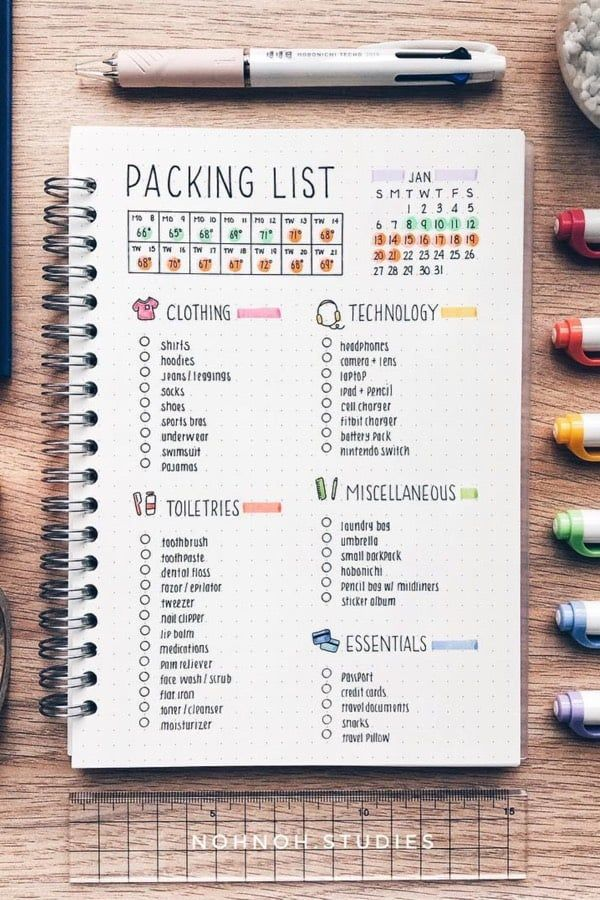page: (102, 127, 519, 763)
